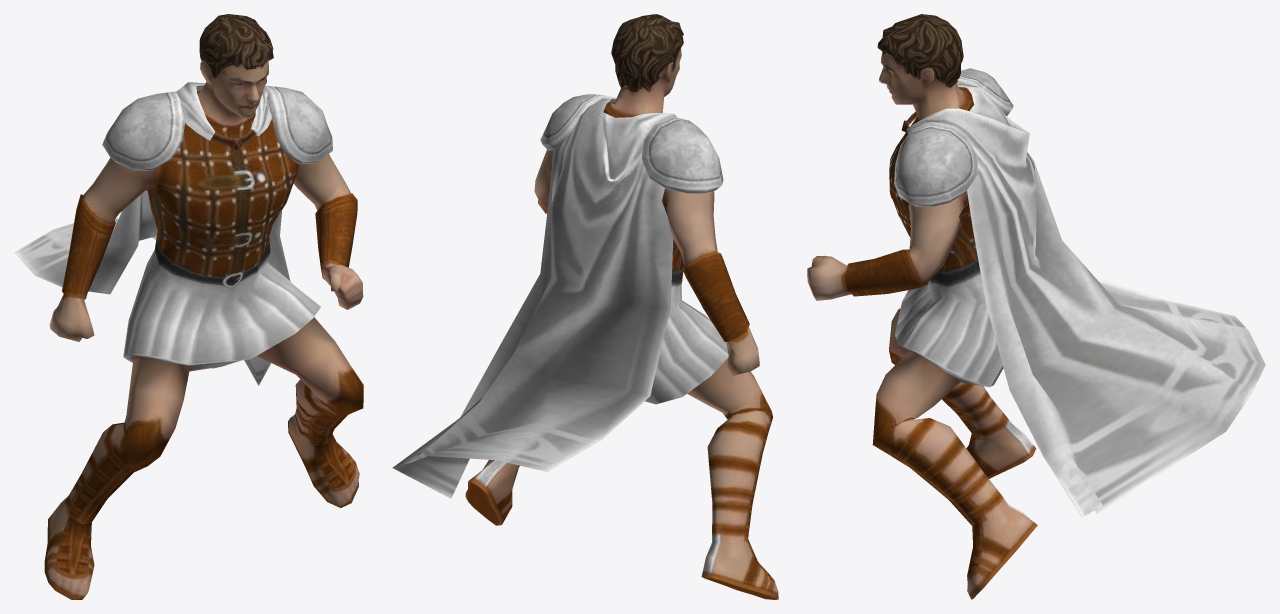
Rendered from rider-slice-mediumcavalry.glb.
The picture shows the model from 3 angles, left to right: view 1: azimuth 30°, elevation 25°; view 2: azimuth 150°, elevation 25°; view 3: azimuth 270°, elevation 25°; orthographic projection. The views are drawn at different scales.
Size of the model in its own units: 1.14 by 1.94 by 1.5.
1 material, 1 textured.
